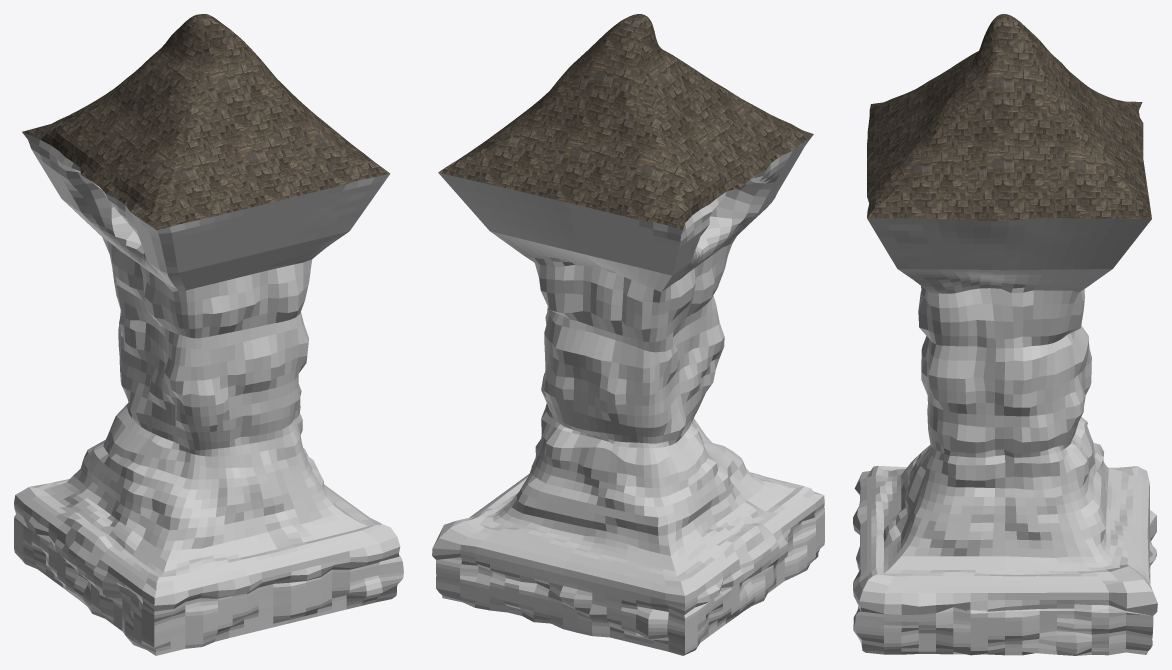
The model's file is Tower.fbx.
The picture shows the model from 3 angles, left to right: view 1: azimuth 30°, elevation 25°; view 2: azimuth 150°, elevation 25°; view 3: azimuth 270°, elevation 25°; orthographic projection. The views are drawn at different scales.
Parts seen in each view (by area): view 1: Tower; view 2: Tower; view 3: Tower.
Boxes of the visible parts, x1,y1,x2,y2 form: Tower: (14,14,403,655); Tower: (432,14,824,655); Tower: (853,14,1157,655).
Size of the model in its own units: 225 by 459 by 220.
